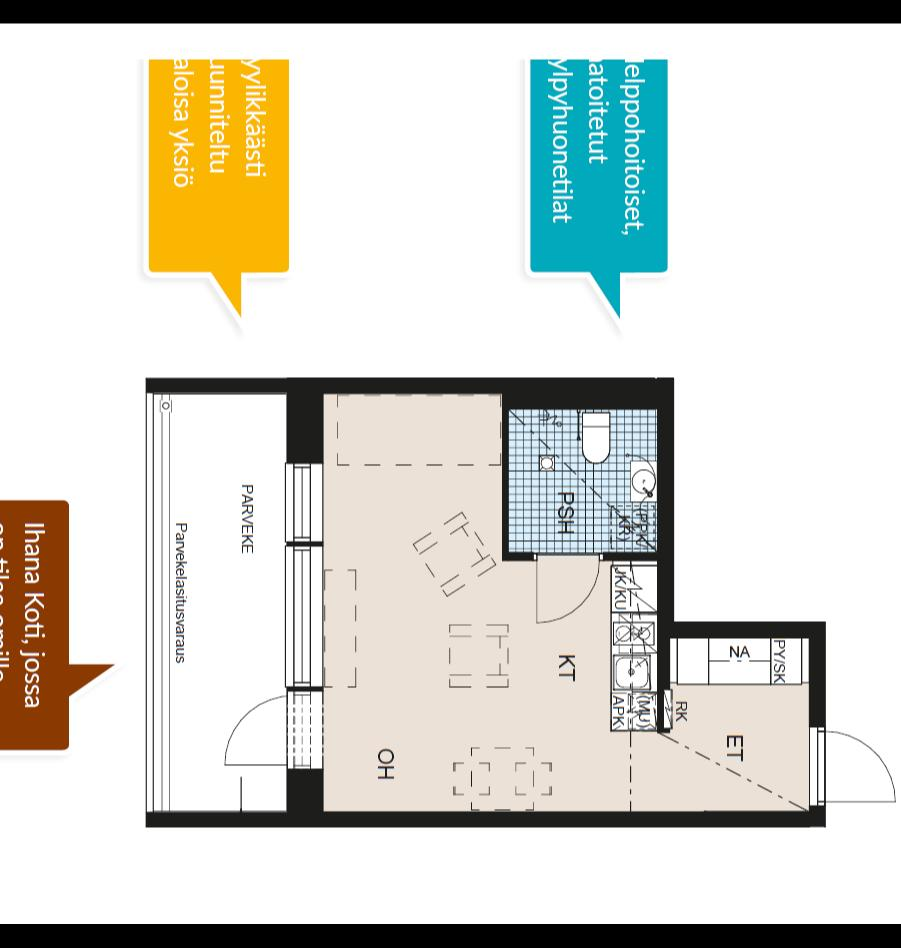door: (805, 727, 900, 809), (219, 688, 301, 774), (530, 543, 602, 627)
window: (278, 542, 328, 692), (282, 455, 329, 546)
